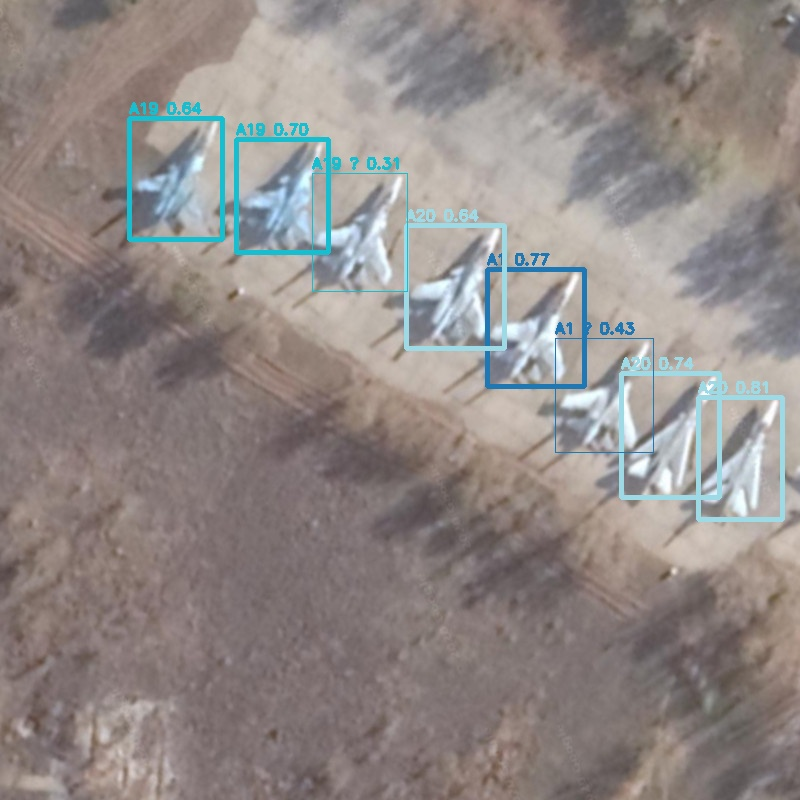A1: (487, 269, 584, 386), (555, 338, 653, 452)
A19: (129, 118, 222, 239), (312, 173, 407, 291), (236, 139, 328, 252)
A20: (621, 373, 719, 497), (406, 225, 504, 348), (698, 397, 782, 519)
